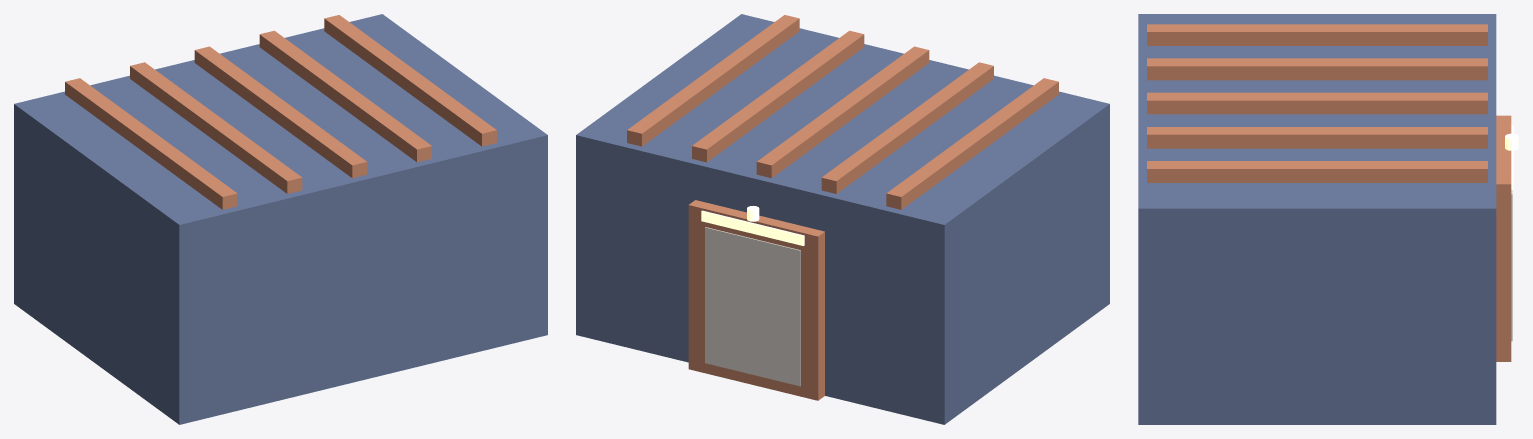
File: shelter_module.glb
3 renders of one model, left to right at view 1: azimuth 30°, elevation 25°; view 2: azimuth 150°, elevation 25°; view 3: azimuth 270°, elevation 25°, orthographic. The views are drawn at different scales.
Parts seen in each view (by area): view 1: Cube, Cube.003, Cube.002, Cube.001, Cube.004, Cube.005; view 2: Cube, Cube.007, Cube.006, Cube.003, Cube.002, Cube.001, Cube.004, Cube.005, Cube.008; view 3: Cube, Cube.002, Cube.003, Cube.001, Cube.004, Cube.005, Cube.006.
Part boxes in pixels (<box>): Cube: <box>14,14,547,424</box>; Cube.003: <box>194,46,367,178</box>; Cube.002: <box>130,62,302,193</box>; Cube.001: <box>65,78,237,209</box>; Cube.004: <box>259,30,431,162</box>; Cube.005: <box>324,15,496,146</box>; Cube: <box>576,14,1109,424</box>; Cube.007: <box>705,227,800,386</box>; Cube.006: <box>688,200,824,400</box>; Cube.003: <box>756,46,929,178</box>; Cube.002: <box>821,62,993,193</box>; Cube.001: <box>886,78,1058,209</box>; Cube.004: <box>692,30,864,162</box>; Cube.005: <box>627,15,799,146</box>; Cube.008: <box>701,210,804,245</box>; Cube: <box>1138,14,1496,424</box>; Cube.002: <box>1147,58,1487,80</box>; Cube.003: <box>1147,92,1487,114</box>; Cube.001: <box>1147,24,1487,45</box>; Cube.004: <box>1147,127,1487,148</box>; Cube.005: <box>1147,161,1487,182</box>; Cube.006: <box>1496,115,1511,361</box>.
Bounding box in the file's own units: 5.4 × 2.99 × 4.46.
